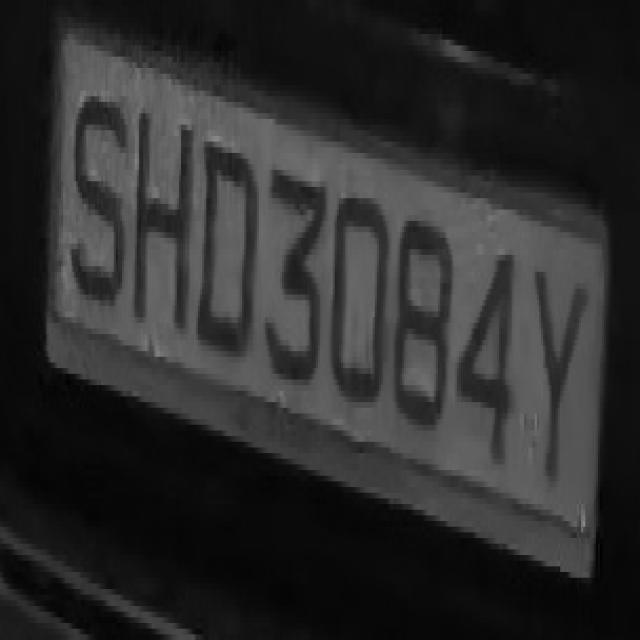0: (326, 170, 389, 442)
3: (263, 142, 335, 419)
4: (455, 221, 520, 487)
8: (394, 198, 454, 470)
D: (192, 119, 254, 396)
H: (130, 80, 198, 346)
S: (76, 62, 126, 340)
Y: (522, 227, 594, 521)
